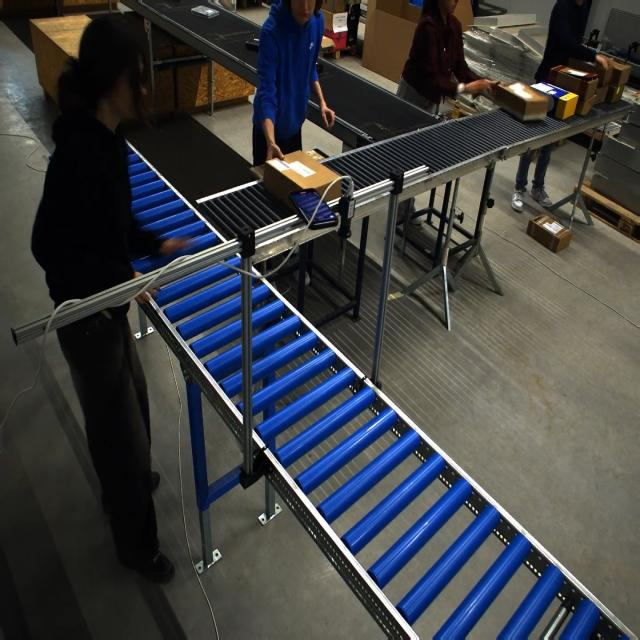box: (264, 150, 337, 213), (490, 80, 549, 121), (529, 81, 577, 119)
product: (191, 5, 220, 19)
